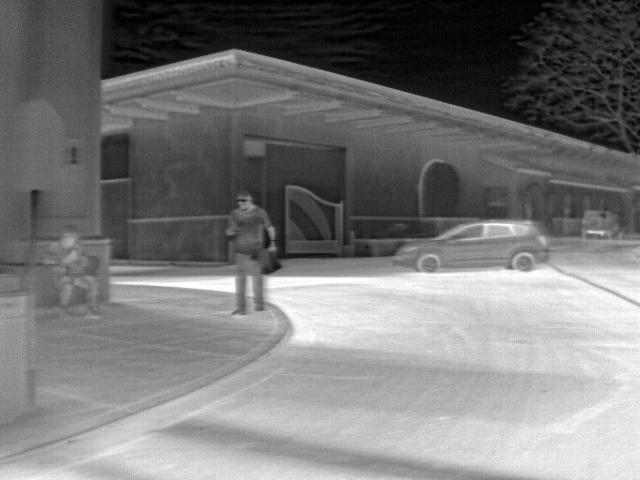car: (391, 218, 551, 276), (581, 209, 621, 242)
person: (223, 187, 279, 317), (39, 230, 103, 319)
